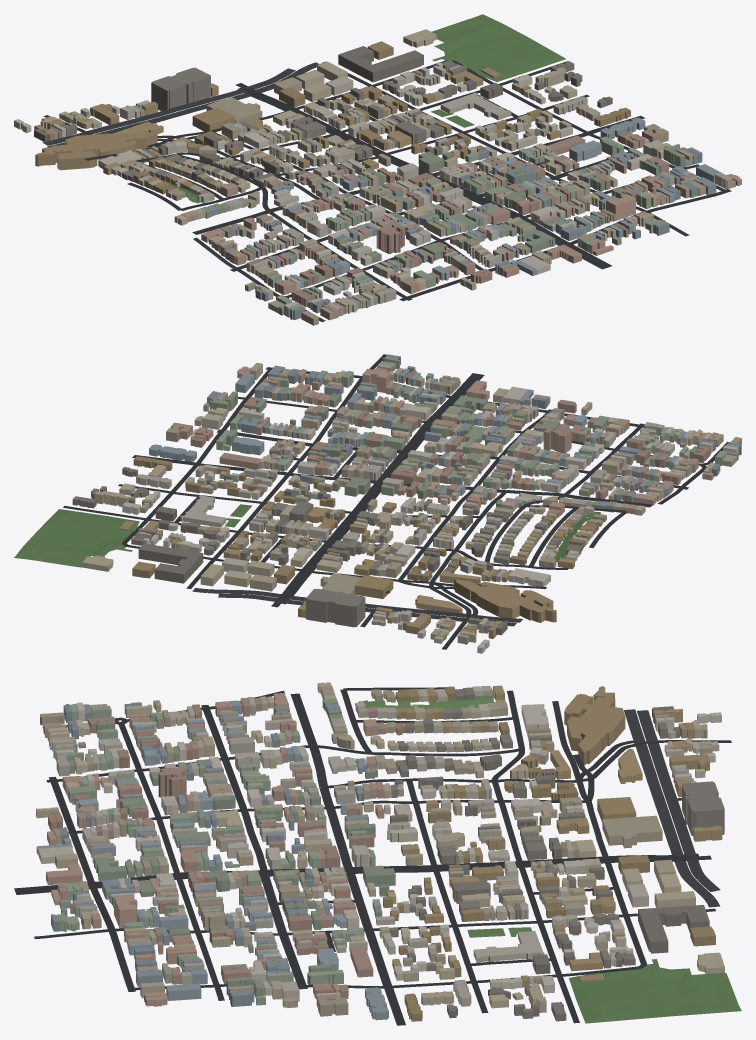
The model's file is tile_9_12.glb.
3 renders of one model, top to bottom at view 1: azimuth 30°, elevation 25°; view 2: azimuth 150°, elevation 25°; view 3: azimuth 270°, elevation 25°, orthographic. The views are drawn at different scales.
Visible parts, largest first — view 1: bld_9_12, road_9_12, grn_9_12; view 2: bld_9_12, road_9_12, grn_9_12; view 3: bld_9_12, road_9_12, grn_9_12.
Boxes of the visible parts, <box> form: bld_9_12: <box>14,29,741,325</box>; road_9_12: <box>42,60,731,321</box>; grn_9_12: <box>128,14,565,203</box>; bld_9_12: <box>72,354,741,653</box>; road_9_12: <box>63,354,729,649</box>; grn_9_12: <box>14,504,601,567</box>; bld_9_12: <box>36,682,724,1021</box>; road_9_12: <box>14,687,731,1025</box>; grn_9_12: <box>355,695,741,1023</box>.
Bounding box in the file's own units: 871 × 75.41 × 876.
